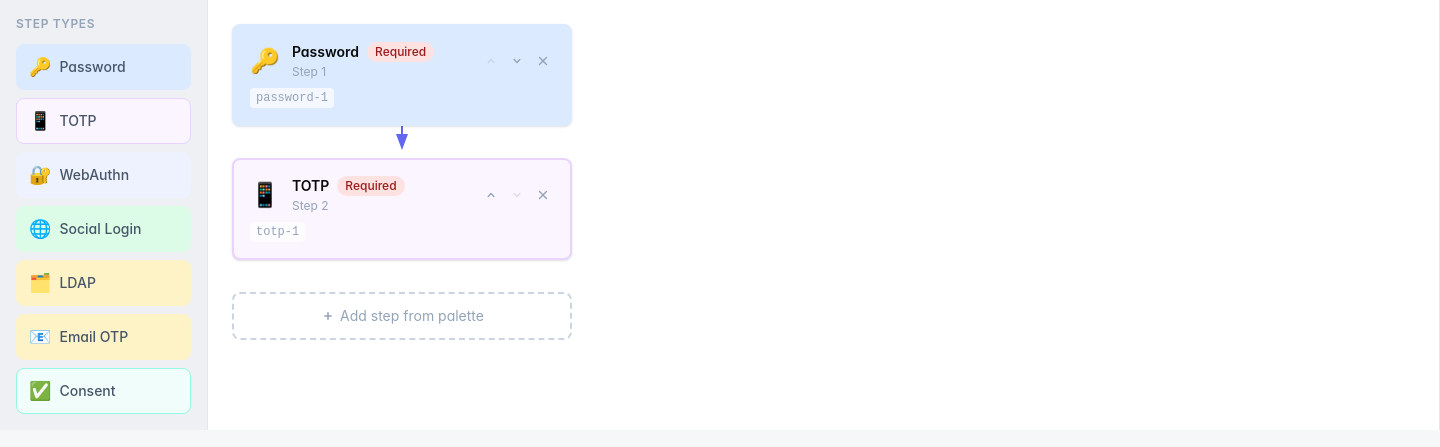
FlowCanvas › opens the step editor when a node is clicked
What coordinates should you click on to do the following:
click the element with test id "flow-step-node-password-1"
I would click on:
 (402, 75)
Its box is [232,24,572,126].
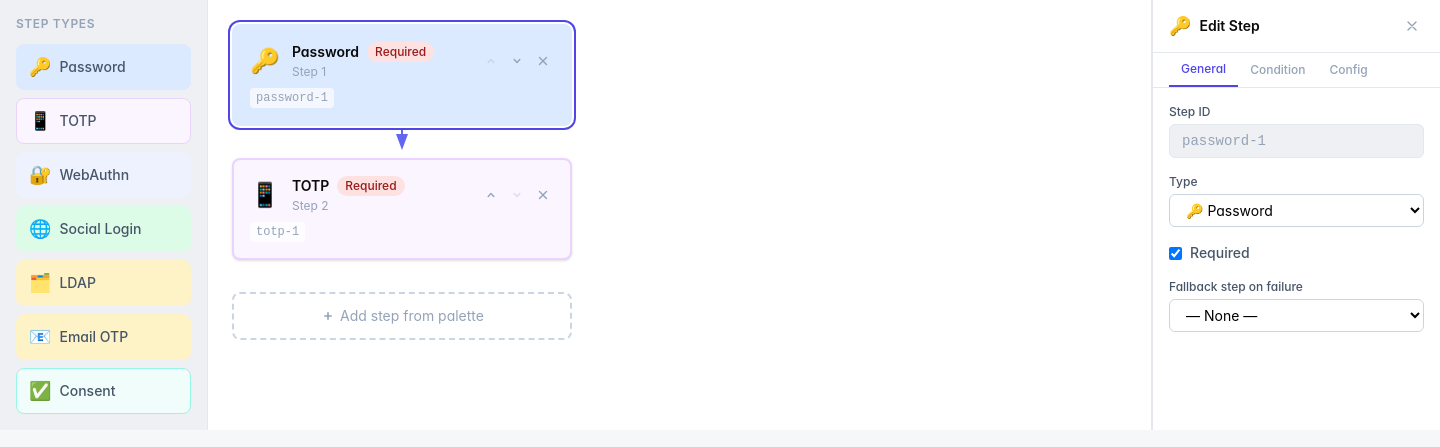
Now the button named "Close step editor" is shown, box [1400,14,1424,38]
